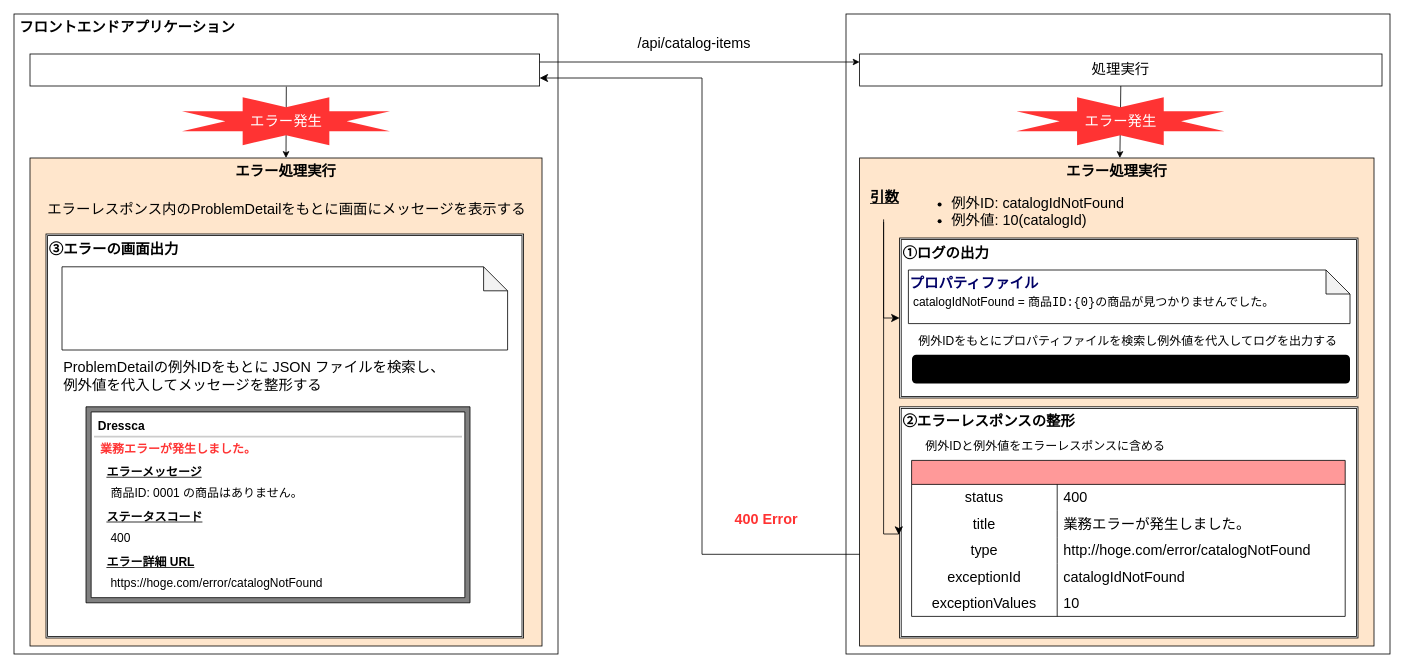
Some shapes in this 1404 by 668 pixel diagram are drawn without their labels. Here are the shapes that lost their labels. From the top down, the box of each, then its label:
(29, 53, 540, 86): API呼び出し
(61, 266, 508, 350): JSON ファイル { "catalogIdNotFound" : "商品ID:[0] の商品はありません。" }
(845, 13, 1390, 654): バックエンドアプリケーション
(912, 354, 1350, 383): 2024/11/20 19:31:03 商品ID:0001の商品が見つかりませんでした。
(911, 460, 1345, 616): ProblemDetail
